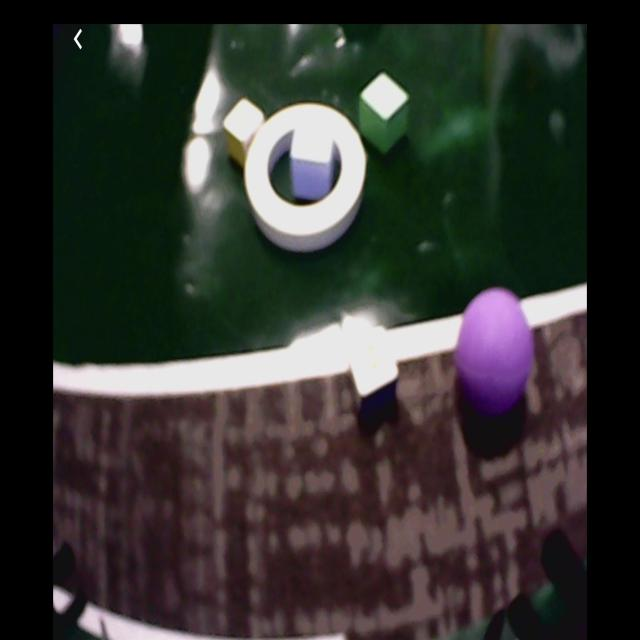ball: (456, 289, 532, 408)
